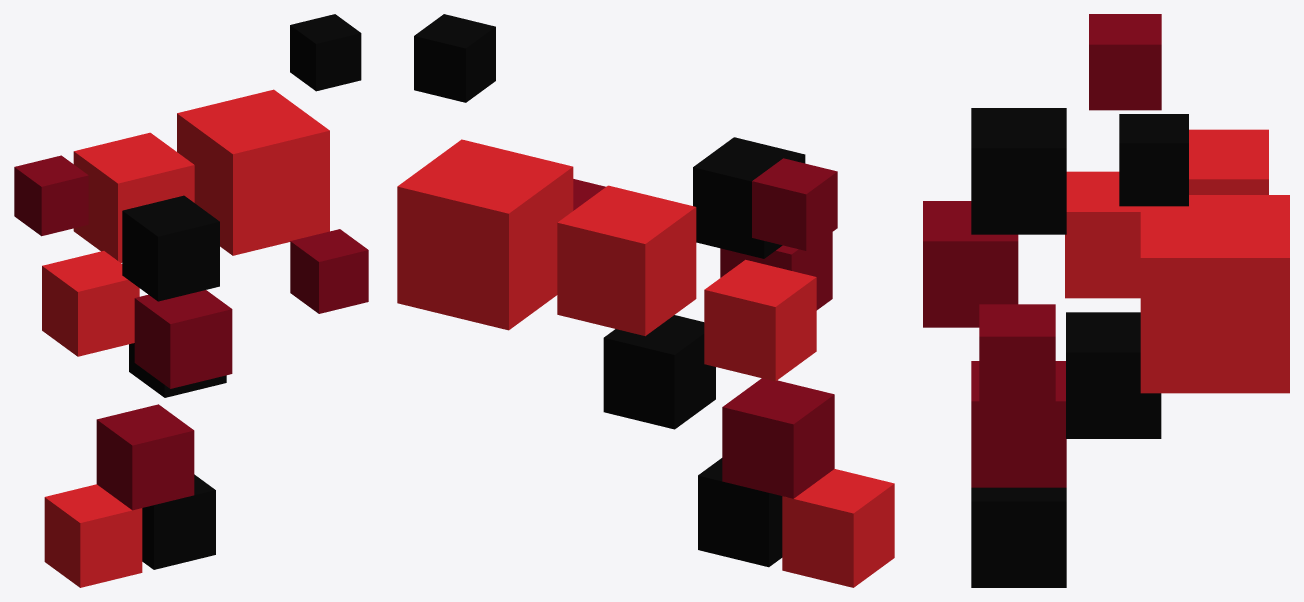
File: rockingchair.fbx_cubes.fbx
The picture shows the model from 3 angles, left to right: view 1: azimuth 30°, elevation 25°; view 2: azimuth 150°, elevation 25°; view 3: azimuth 270°, elevation 25°; orthographic projection. The views are drawn at different scales.
Parts seen in each view (by area): view 1: Cube.009, Cube.002, Cube.006, Cube.007, Cube, Cube.005, Cube.004, Cube.008, Cube.001, Cube.011, Cube.010, Cube.003; view 2: Cube.009, Cube.007, Cube.004, Cube.002, Cube, Cube.003, Cube.006, Cube.001, Cube.011, Cube.010, Cube.005; view 3: Cube.009, Cube.006, Cube.003, Cube.005, Cube.001, Cube.004, Cube.002, Cube.008, Cube.011, Cube.010, Cube.007.
Boxes of the visible parts, x1,y1,x2,y2 form: Cube.009: [177, 89, 329, 255]; Cube.002: [96, 404, 194, 510]; Cube.006: [122, 195, 219, 301]; Cube.007: [73, 132, 194, 262]; Cube: [44, 484, 142, 587]; Cube.005: [134, 290, 232, 388]; Cube.004: [42, 251, 139, 356]; Cube.008: [290, 229, 368, 313]; Cube.001: [142, 474, 215, 569]; Cube.011: [14, 155, 88, 236]; Cube.010: [290, 14, 361, 91]; Cube.003: [129, 343, 226, 397]; Cube.009: [397, 139, 573, 330]; Cube.007: [557, 185, 696, 336]; Cube.004: [704, 259, 816, 381]; Cube.002: [722, 378, 834, 498]; Cube: [782, 469, 894, 587]; Cube.003: [603, 315, 715, 429]; Cube.006: [693, 137, 805, 258]; Cube.001: [698, 458, 782, 567]; Cube.011: [752, 158, 837, 250]; Cube.010: [414, 14, 495, 102]; Cube.005: [720, 232, 832, 310]; Cube.009: [1140, 195, 1289, 393]; Cube.006: [971, 108, 1066, 234]; Cube.003: [1066, 312, 1161, 438]; Cube.005: [923, 201, 1018, 327]; Cube.001: [971, 487, 1066, 587]; Cube.004: [1065, 171, 1140, 298]; Cube.002: [971, 361, 1066, 487]; Cube.008: [979, 304, 1055, 405]; Cube.011: [1089, 14, 1161, 110]; Cube.010: [1119, 114, 1188, 206]; Cube.007: [1189, 129, 1268, 194].
Bounding box in the file's own units: 123 × 151 × 87.32.
